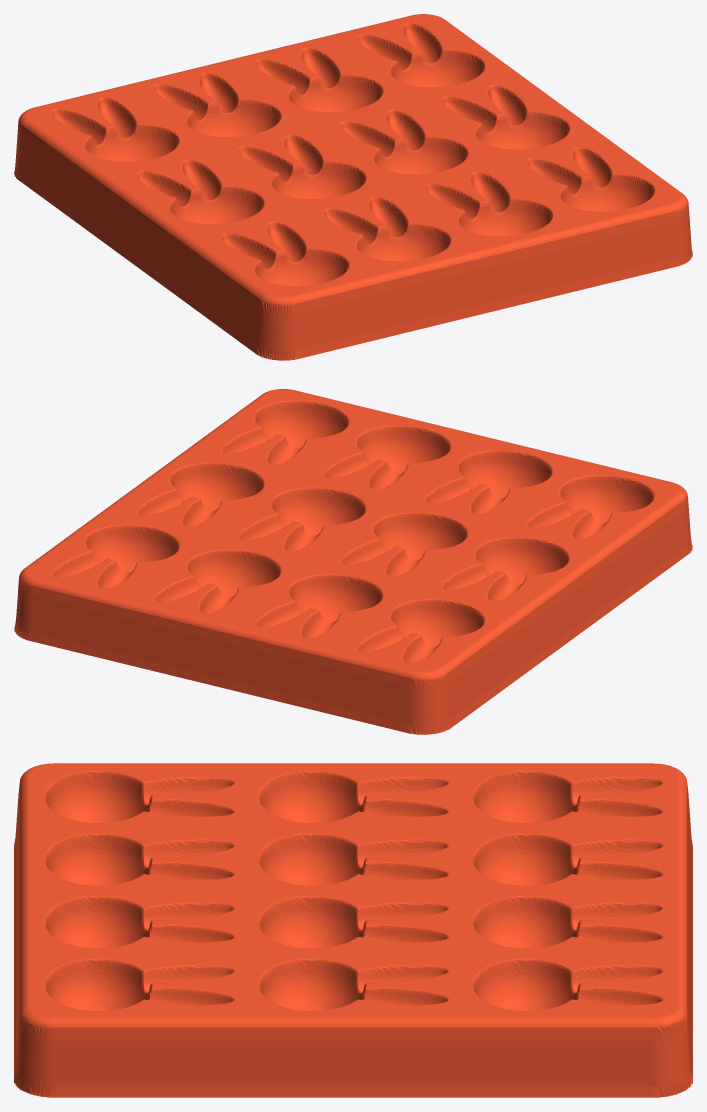
Rendered from mold.glb.
The picture shows the model from 3 angles, top to bottom: view 1: azimuth 30°, elevation 25°; view 2: azimuth 150°, elevation 25°; view 3: azimuth 270°, elevation 25°; orthographic projection. The views are drawn at different scales.
Visible parts, largest first — view 1: geometry_0; view 2: geometry_0; view 3: geometry_0.
Part boxes in pixels (bbox=[...]): geometry_0: bbox=[14, 14, 692, 360]; geometry_0: bbox=[14, 389, 692, 734]; geometry_0: bbox=[14, 763, 692, 1097].
Size of the model in its own units: 0.1434 by 0.0185 by 0.1545.
